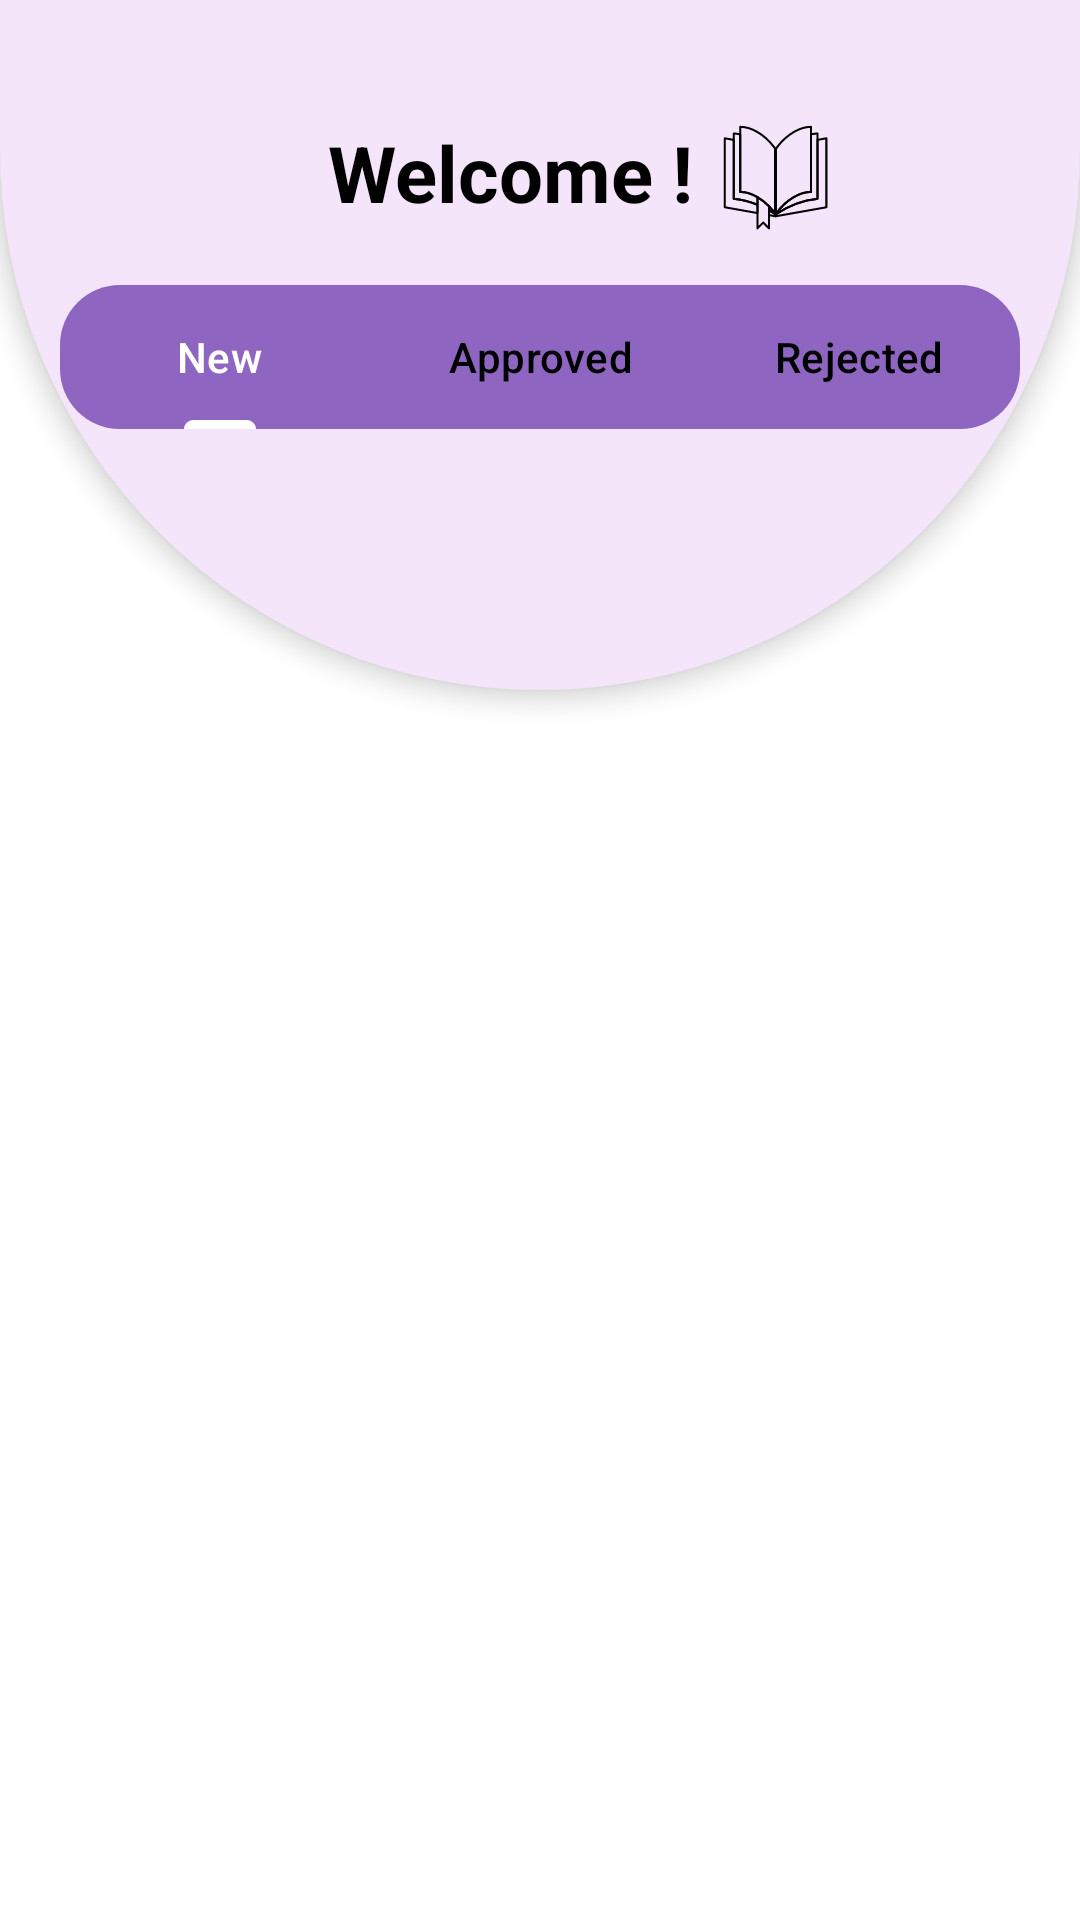

Screen size 1080w x 1920h. Icon name, then its box in pixels as (x1, y1, x2, y2):
book: (723, 125, 828, 230)
